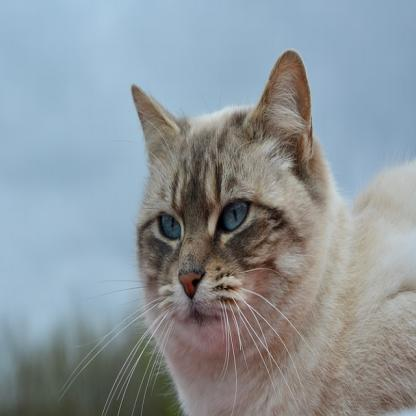cat: (118, 47, 415, 415)
